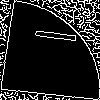I: (25, 24, 77, 46)
